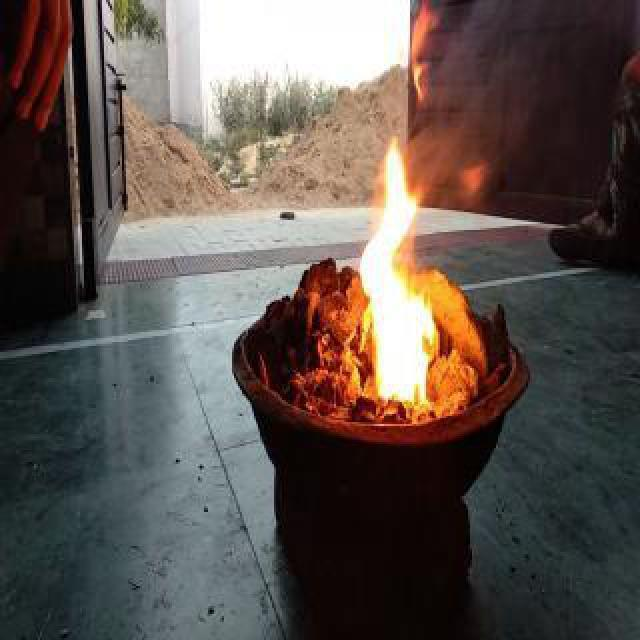smoke: (400, 108, 440, 202)
zfire: (354, 124, 400, 406), (400, 204, 442, 404), (452, 158, 492, 212)
